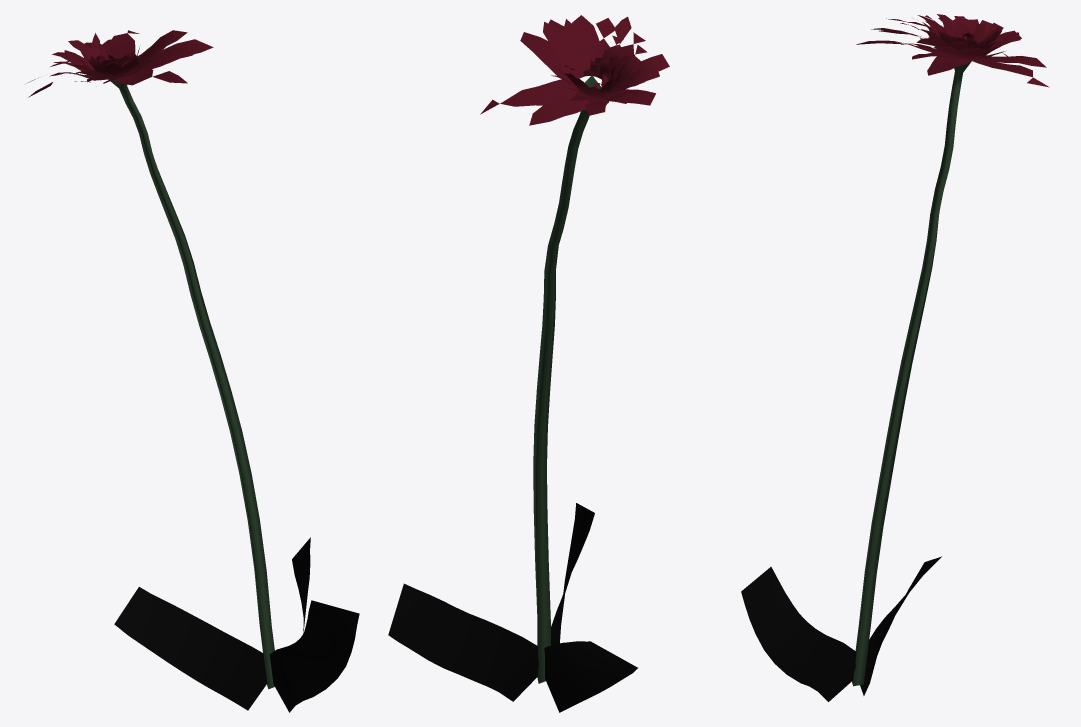
File: flower2.fbx
The picture shows the model from 3 angles, left to right: view 1: azimuth 30°, elevation 25°; view 2: azimuth 150°, elevation 25°; view 3: azimuth 270°, elevation 25°; orthographic projection. The views are drawn at different scales.
Visible parts, largest first — view 1: polySurface2; view 2: polySurface2; view 3: polySurface2.
Boxes of the visible parts, x1,y1,x2,y2 form: polySurface2: (28, 30, 359, 712); polySurface2: (388, 15, 669, 712); polySurface2: (741, 14, 1049, 701).
Bounding box in the file's own units: 0.5002 × 1.17 × 0.5392.
